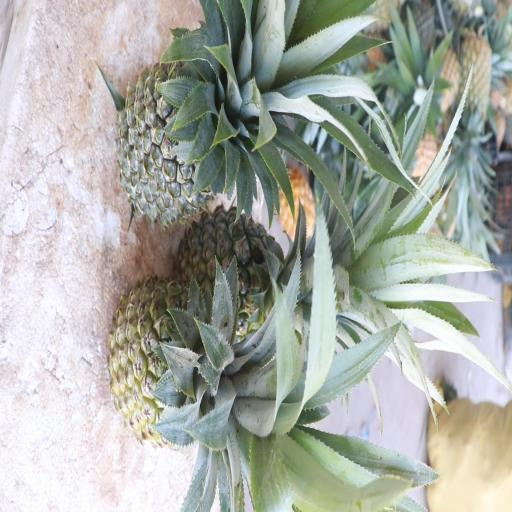------------------------------: (104, 271, 339, 459), (173, 202, 360, 360)
Pineapple - v8 v1: (463, 28, 499, 148)
